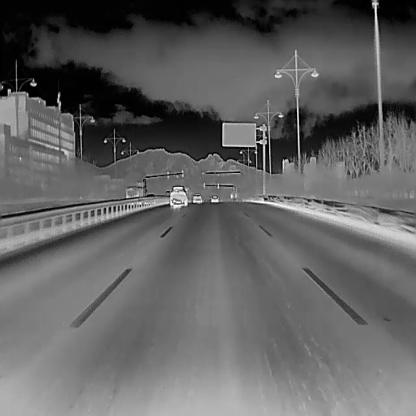bus: (124, 186, 146, 202)
car: (170, 184, 188, 206), (192, 191, 202, 203), (209, 193, 219, 202)
